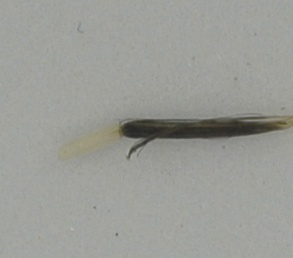เมล้ดปลายพู่กัน: (49, 109, 293, 163)
